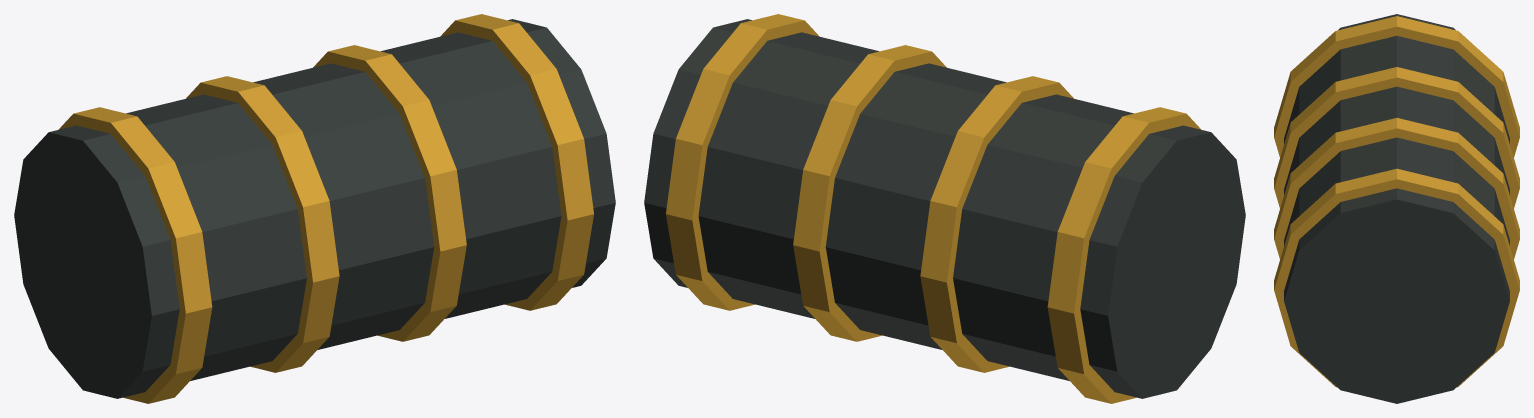
The model's file is Bastion_Refinery_UnloaderSpin.obj.
3 renders of one model, left to right at view 1: azimuth 30°, elevation 25°; view 2: azimuth 150°, elevation 25°; view 3: azimuth 270°, elevation 25°, orthographic. The views are drawn at different scales.
Parts seen in each view (by area): view 1: Bastion_Refinery_UnloaderSpin; view 2: Bastion_Refinery_UnloaderSpin; view 3: Bastion_Refinery_UnloaderSpin.
Boxes of the visible parts, bbox=[...] form: Bastion_Refinery_UnloaderSpin: bbox=[14, 14, 615, 403]; Bastion_Refinery_UnloaderSpin: bbox=[644, 14, 1245, 403]; Bastion_Refinery_UnloaderSpin: bbox=[1274, 14, 1519, 403].
Bounding box in the file's own units: 1.75 × 0.98 × 0.98.
Materials: 1 (1 with a texture image).
